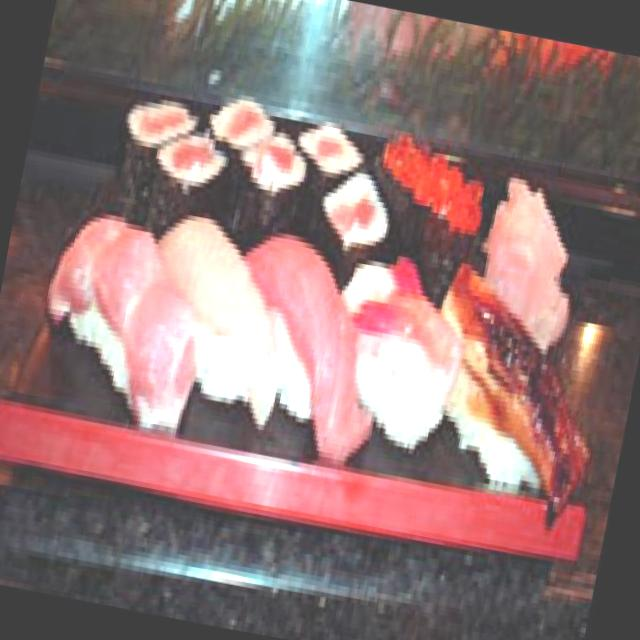Sushi: (19, 58, 640, 505)
